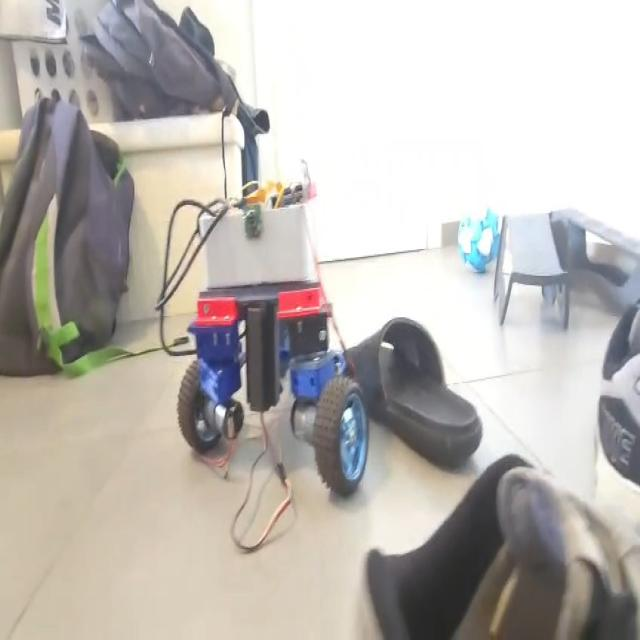Robot: (176, 152, 370, 492)
